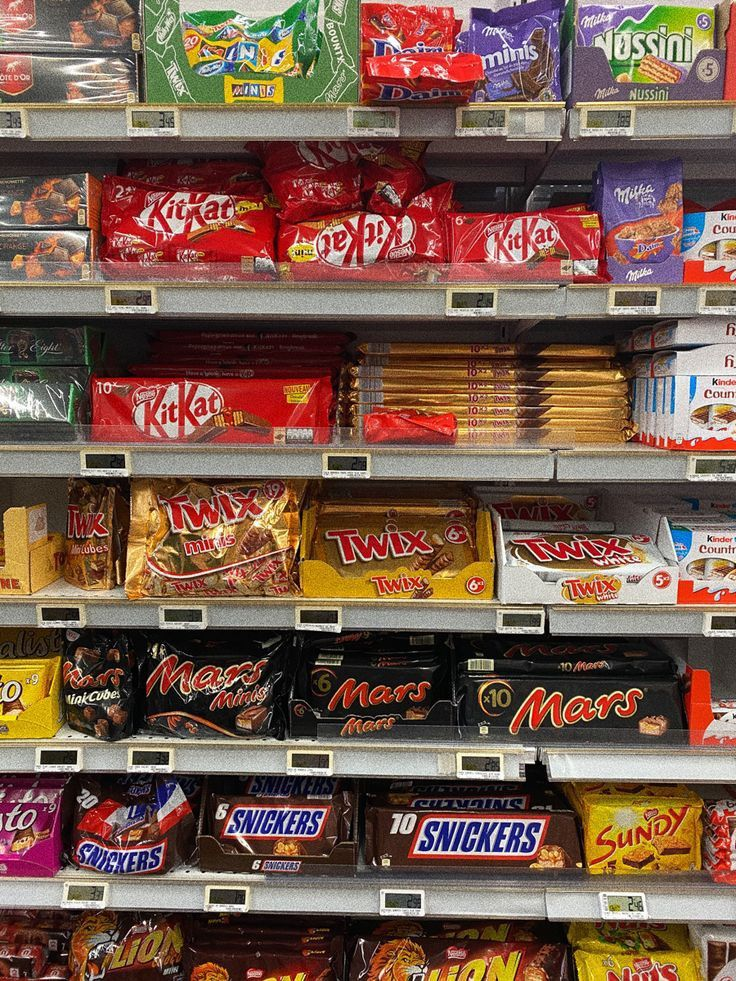KitKat: (80, 363, 342, 460)
Mars: (457, 667, 705, 750)
Snickers: (364, 792, 587, 884)
Twix: (303, 482, 498, 618)
